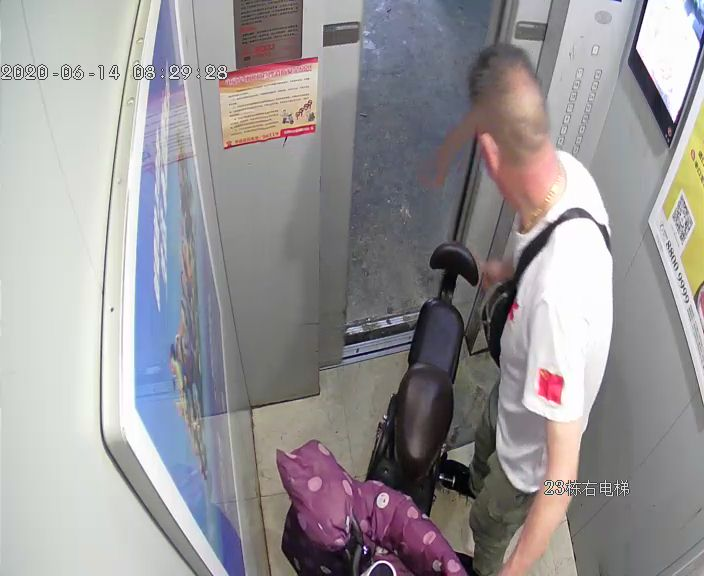Electric-bicycle: (275, 240, 478, 576)
